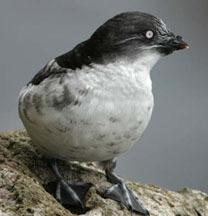006.Least_Auklet: (15, 11, 189, 216)
